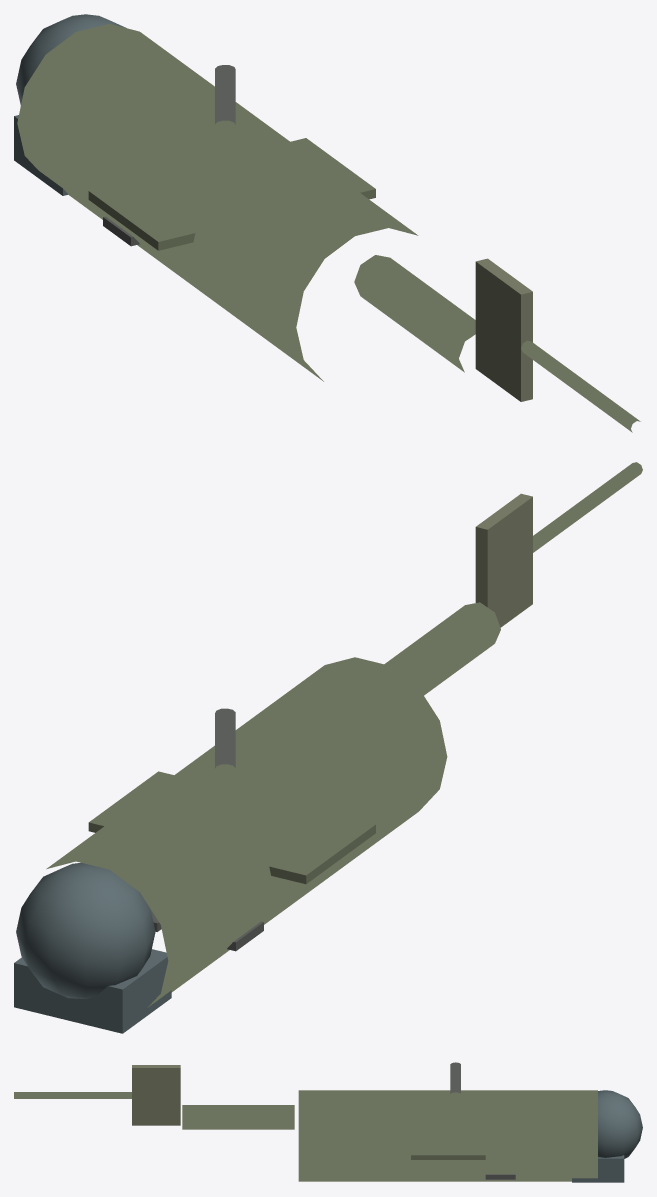
3 renders of one model, top to bottom at view 1: azimuth 30°, elevation 25°; view 2: azimuth 150°, elevation 25°; view 3: azimuth 270°, elevation 25°, orthographic. The views are drawn at different scales.
Visible parts, largest first — view 1: body; view 2: body; view 3: body.
Part boxes in pixels (<box>): body: <box>14,14,640,432</box>; body: <box>14,462,642,1033</box>; body: <box>14,1062,642,1182</box>.
Size of the model in its own units: 3.6 by 3.32 by 16.8.
